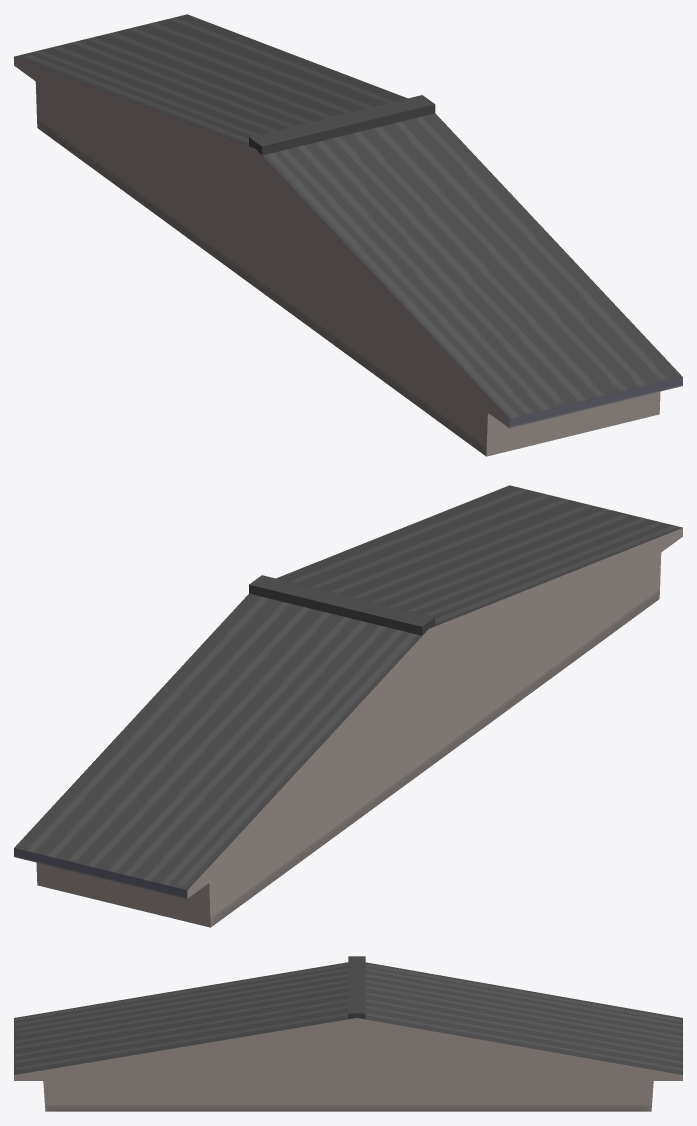
Rendered from Rooftop_type3.FBX.
3 renders of one model, top to bottom at view 1: azimuth 30°, elevation 25°; view 2: azimuth 150°, elevation 25°; view 3: azimuth 270°, elevation 25°, orthographic. The views are drawn at different scales.
Visible parts, largest first — view 1: Rooftop_type3_01; view 2: Rooftop_type3_01; view 3: Rooftop_type3_01.
Part boxes in pixels (left/top/right/bottom): Rooftop_type3_01: left=14, top=14, right=682, bottom=456; Rooftop_type3_01: left=14, top=485, right=682, bottom=927; Rooftop_type3_01: left=14, top=956, right=682, bottom=1111.
Bounding box in the file's own units: 711 × 571 × 3522.
1 material, 1 textured.
